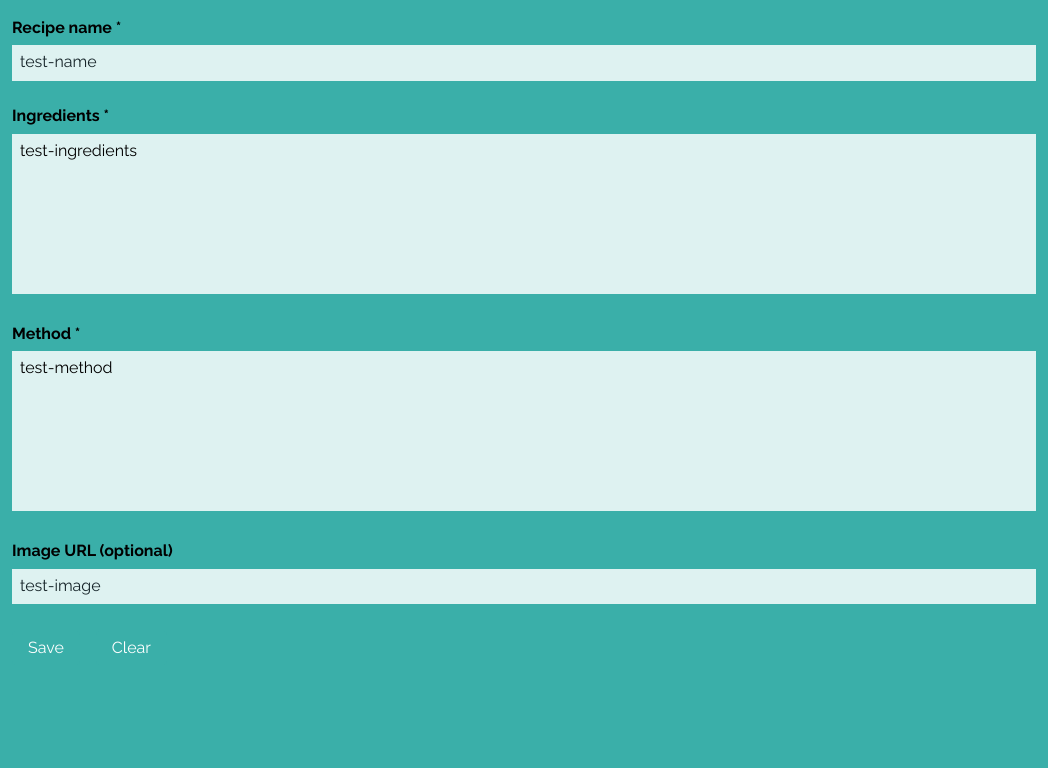
RecipeForm › clear button › clears form on click
The width and height of the screenshot is (1048, 768).
Click the button with id "clear" at x=131, y=648, box [96, 631, 167, 665]
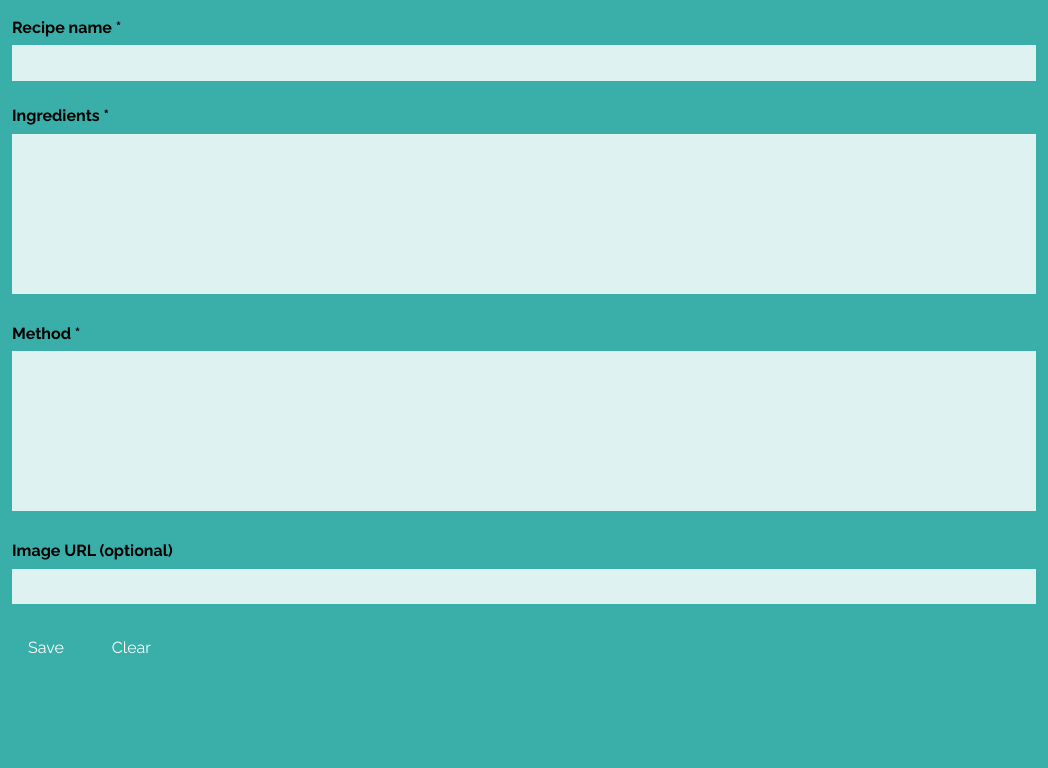
Result: the field with id "name" is empty at [12, 45, 1036, 80]
Result: the text box with id "ingredients" is empty at [12, 134, 1036, 294]
Result: the text box with id "method" is empty at [12, 351, 1036, 511]
